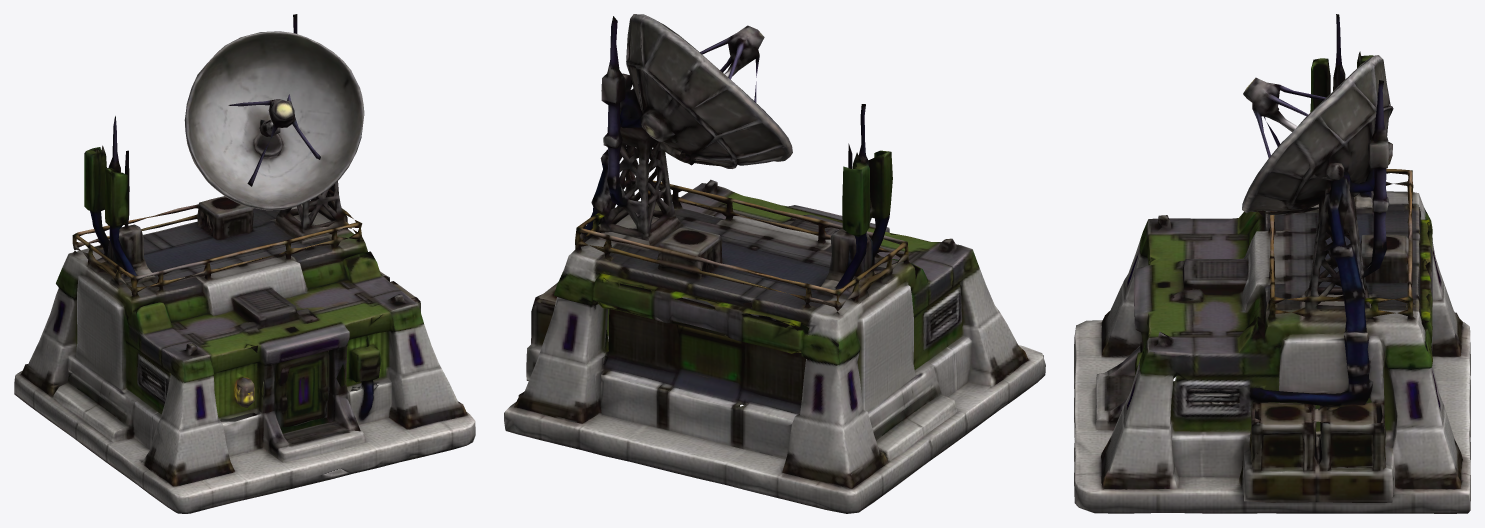
The model's file is comms_l04.glb.
3 views of the same model, side by side, from view 1: azimuth 30°, elevation 25°; view 2: azimuth 150°, elevation 25°; view 3: azimuth 270°, elevation 25° (orthographic). The views are drawn at different scales.
Visible parts, largest first — view 1: world; view 2: world; view 3: world.
Boxes of the visible parts, x1=… form: world: x1=14, y1=14, x2=475, y2=513; world: x1=504, y1=14, x2=1045, y2=513; world: x1=1074, y1=14, x2=1470, y2=513.
Size of the model in its own units: 0.96 by 0.9949 by 0.8874.
Materials: 1 (1 with a texture image).
